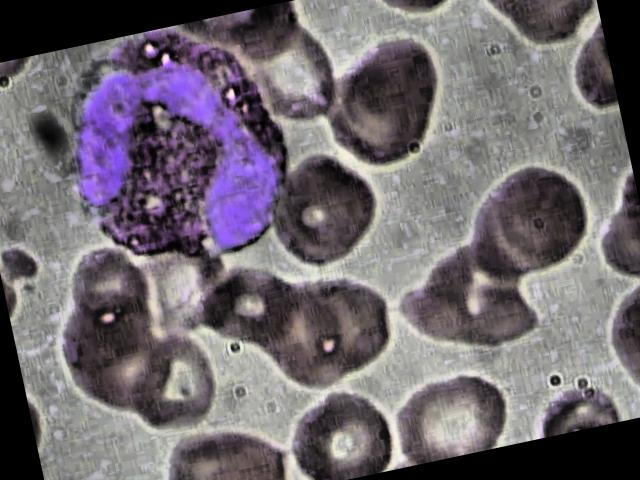RBC: (256, 142, 388, 272), (328, 25, 464, 149), (380, 349, 518, 468), (483, 148, 602, 275), (272, 373, 404, 480), (152, 396, 295, 480), (121, 330, 220, 432), (483, 0, 602, 57)
WBC: (38, 8, 314, 292)
